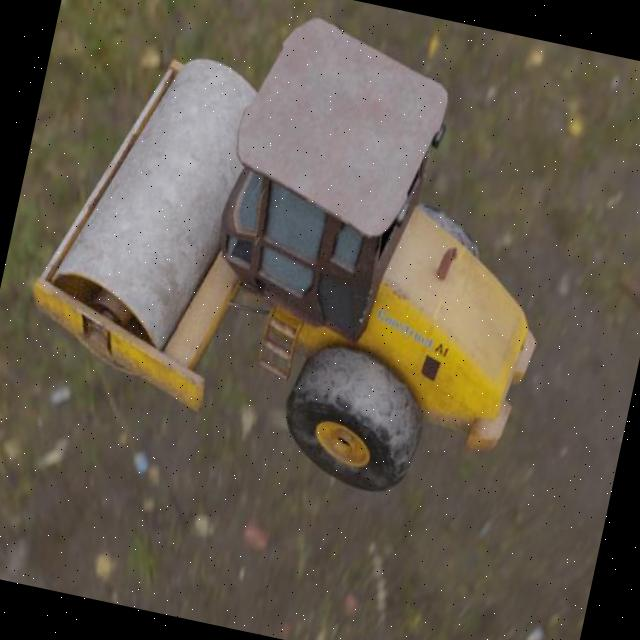Roller: (4, 0, 592, 518)
